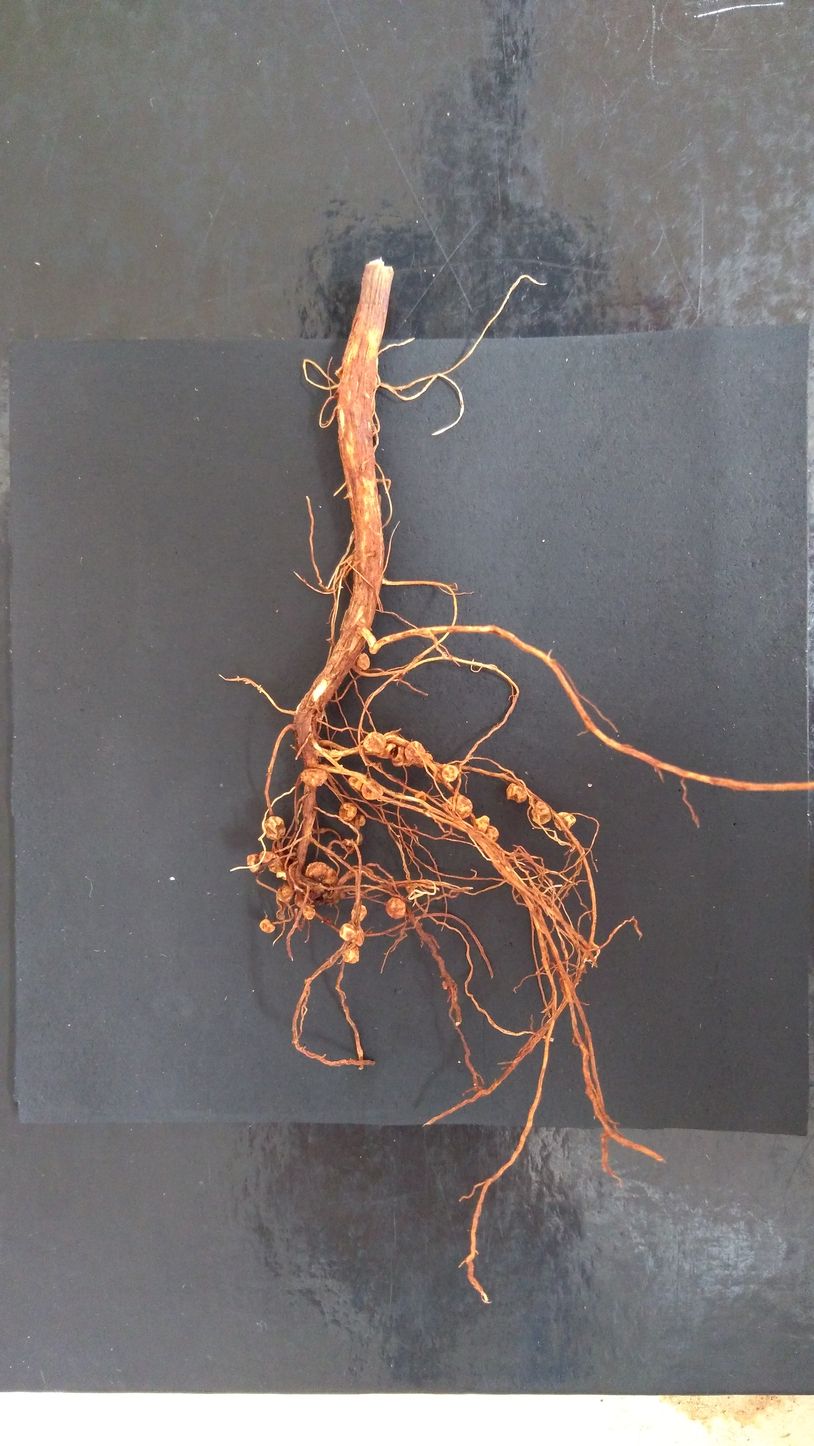nodule: (305, 862, 339, 888), (443, 794, 473, 820), (383, 731, 406, 761), (315, 880, 341, 906), (259, 850, 285, 874), (262, 816, 286, 840), (363, 731, 387, 754), (529, 800, 552, 824), (300, 768, 328, 787), (405, 740, 426, 765), (385, 896, 407, 919), (360, 780, 384, 801), (347, 919, 365, 947), (554, 811, 577, 831), (506, 783, 527, 804), (246, 853, 267, 873), (339, 802, 358, 824), (341, 943, 360, 964), (338, 922, 358, 941), (275, 884, 294, 903), (347, 773, 367, 791), (482, 824, 500, 843), (474, 815, 491, 835), (441, 764, 459, 782), (339, 838, 357, 856), (433, 762, 447, 784), (348, 813, 367, 829), (416, 752, 434, 768), (355, 652, 370, 671), (351, 904, 366, 922), (259, 918, 275, 934), (302, 905, 316, 921), (414, 790, 427, 807), (390, 754, 406, 767), (329, 748, 342, 761), (276, 868, 289, 880), (339, 889, 346, 900), (346, 555, 355, 561)
